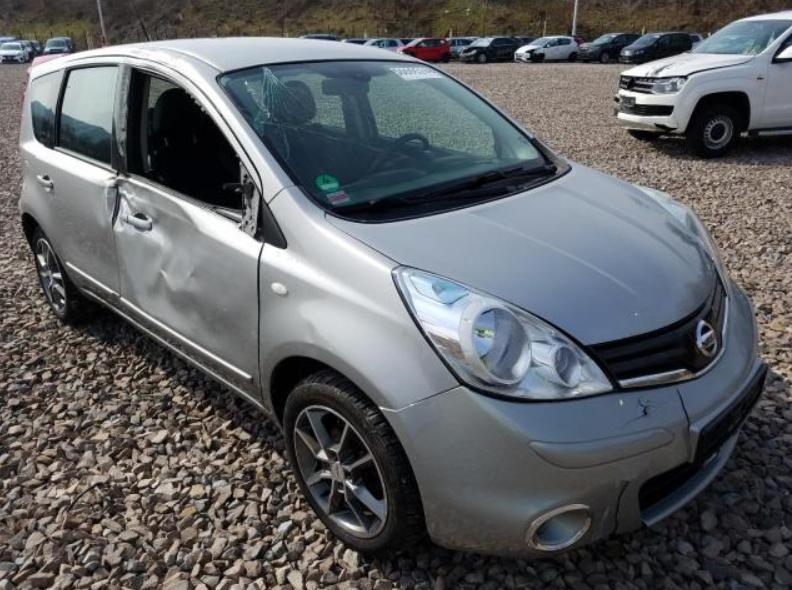Back-door: (31, 54, 123, 308)
Back-wheel: (30, 224, 79, 323)
Back-window: (28, 57, 117, 170)
Fender: (259, 183, 464, 412)
Front-bumper: (383, 279, 762, 561)
Front-door: (114, 56, 266, 402)
Front-wheel: (280, 369, 432, 556)
Front-window: (125, 63, 252, 219)
Grille: (587, 269, 728, 384)
Headlight: (391, 267, 616, 400), (646, 183, 730, 298)
Hood: (329, 154, 716, 346)
License-plate: (691, 368, 761, 474)
Quarter-panel: (17, 133, 48, 215)
Rocker-panel: (75, 281, 281, 427)
Roof: (119, 35, 425, 75)
Windshield: (221, 58, 567, 224)
